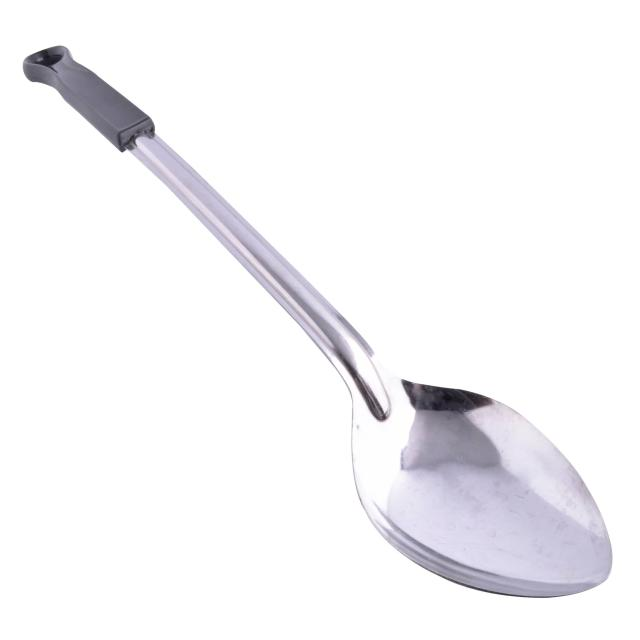spoon: (0, 0, 617, 613)
